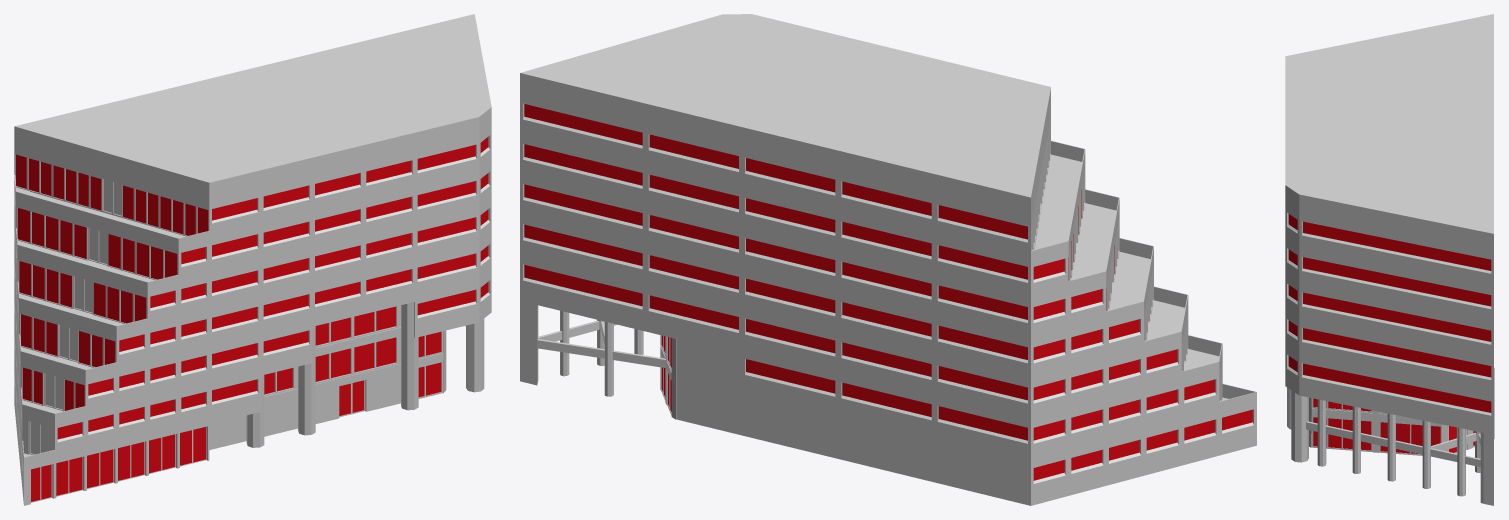
Rendered from SM_House_05.glb.
The picture shows the model from 3 angles, left to right: view 1: azimuth 30°, elevation 25°; view 2: azimuth 150°, elevation 25°; view 3: azimuth 270°, elevation 25°; orthographic projection. The views are drawn at different scales.
Visible parts, largest first — view 1: House_05; view 2: House_05; view 3: House_05.
Part boxes in pixels (x1,y1,x2,y2): House_05: (14,14,491,505); House_05: (520,14,1256,505); House_05: (1285,14,1494,505).
Size of the model in its own units: 48.28 by 23 by 16.04.
